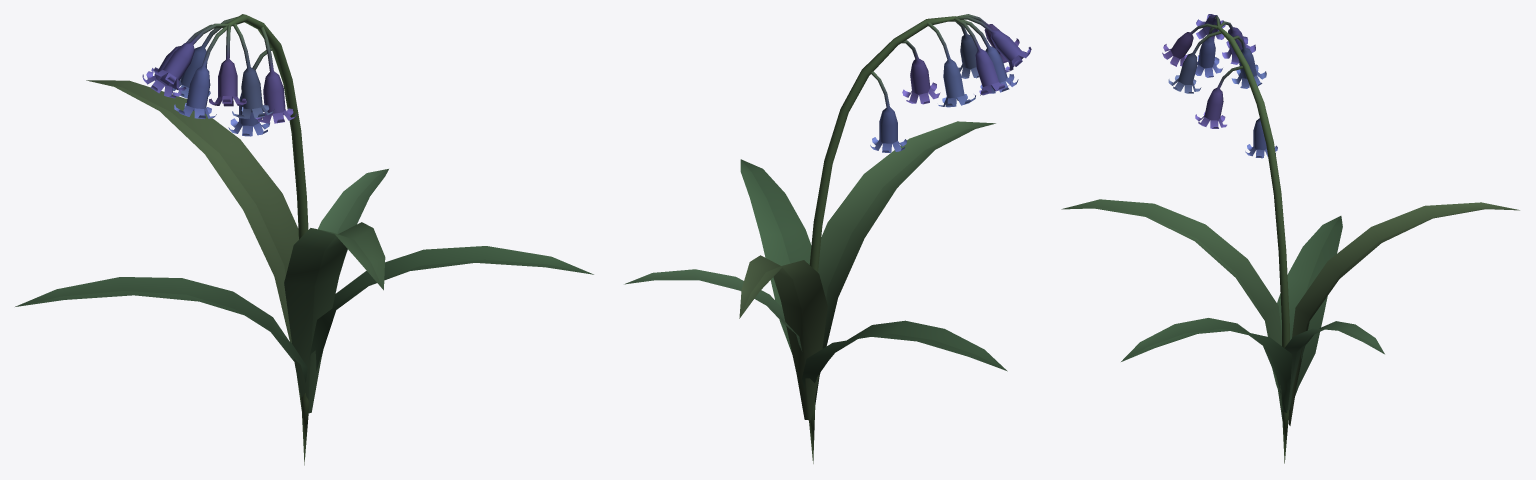
Rendered from plants-flowers-bluebell_v2.glb.
3 views of the same model, side by side, from view 1: azimuth 30°, elevation 25°; view 2: azimuth 150°, elevation 25°; view 3: azimuth 270°, elevation 25° (orthographic). The views are drawn at different scales.
Parts seen in each view (by area): view 1: Bluebell_v2; view 2: Bluebell_v2; view 3: Bluebell_v2.
Part boxes in pixels (x1,y1,x2,y2): Bluebell_v2: (15, 14, 593, 465); Bluebell_v2: (624, 14, 1031, 463); Bluebell_v2: (1061, 14, 1519, 463).
Bounding box in the file's own units: 0.3031 × 0.3323 × 0.35.
